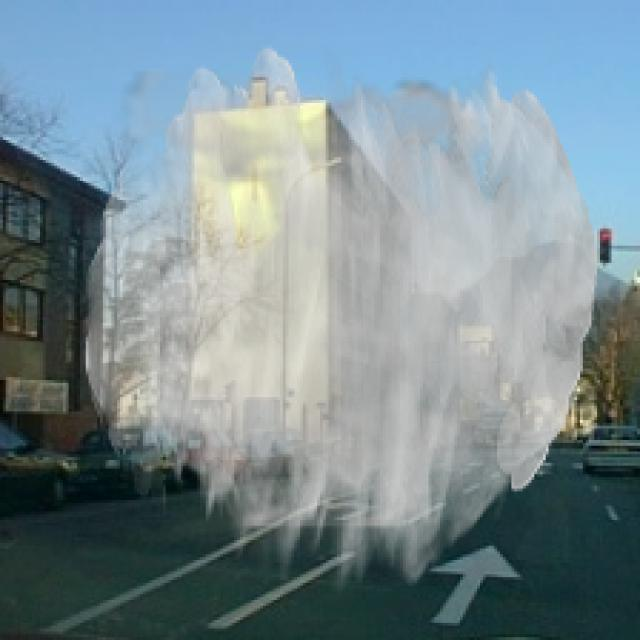smoke: (83, 46, 597, 591)
